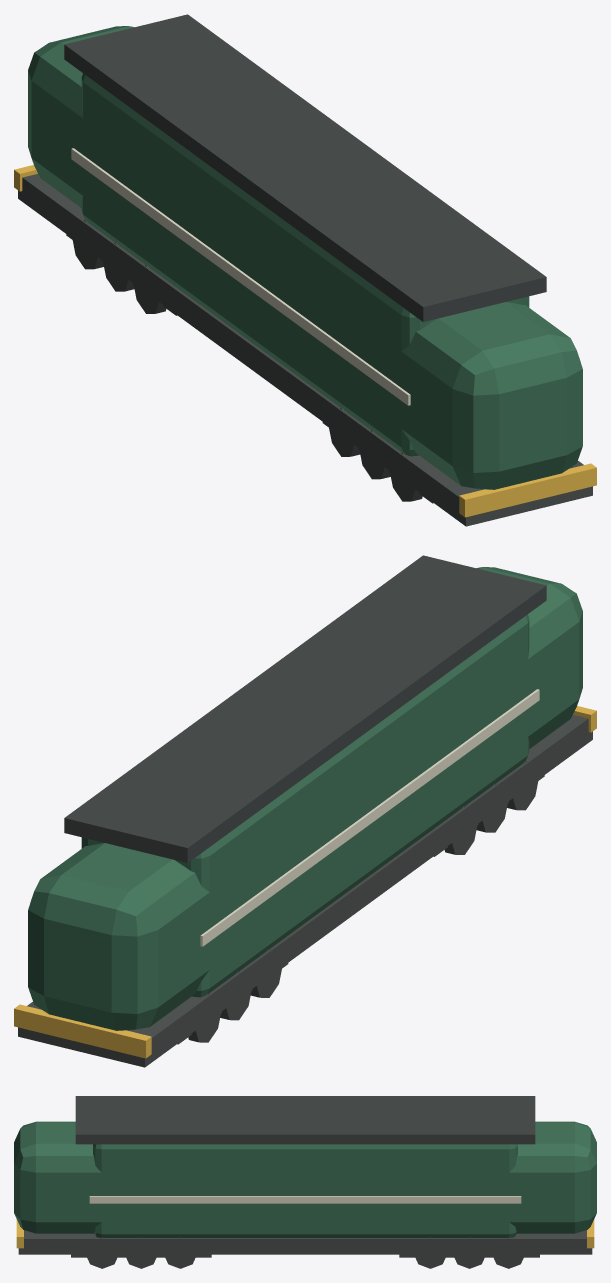
Rendered from nord-di-3b_lod1.glb.
3 views of the same model, one above another, from view 1: azimuth 30°, elevation 25°; view 2: azimuth 150°, elevation 25°; view 3: azimuth 270°, elevation 25° (orthographic). The views are drawn at different scales.
Visible parts, largest first — view 1: RF_Di3_Roof, RF_Di3_Body, RF_Di3_RoundedNose.001, RF_Di3_Chassis, RF_Di3_RoundedNose, RF_Di3_Stripe.001, RF_Di3_BufferBeam.001; view 2: RF_Di3_Roof, RF_Di3_Body, RF_Di3_RoundedNose, RF_Di3_Chassis, RF_Di3_RoundedNose.001, RF_Di3_Stripe.001, RF_Di3_BufferBeam; view 3: RF_Di3_Body, RF_Di3_Roof, RF_Di3_Chassis, RF_Di3_RoundedNose, RF_Di3_RoundedNose.001, RF_Di3_Stripe, RF_Di3_Wheel.006, RF_Di3_Wheel.008, RF_Di3_Wheel.004, RF_Di3_Wheel.010, RF_Di3_Wheel.002, RF_Di3_Wheel.
Boxes of the visible parts, <box> form: RF_Di3_Roof: <box>64,14,546,321</box>; RF_Di3_Body: <box>81,73,529,456</box>; RF_Di3_RoundedNose.001: <box>400,302,582,489</box>; RF_Di3_Chassis: <box>18,174,592,526</box>; RF_Di3_RoundedNose: <box>28,26,134,207</box>; RF_Di3_Stripe.001: <box>71,148,410,405</box>; RF_Di3_BufferBeam.001: <box>459,463,596,517</box>; RF_Di3_Roof: <box>64,555,546,862</box>; RF_Di3_Body: <box>81,614,529,997</box>; RF_Di3_RoundedNose: <box>28,843,210,1030</box>; RF_Di3_Chassis: <box>18,715,592,1067</box>; RF_Di3_RoundedNose.001: <box>476,567,582,748</box>; RF_Di3_Stripe.001: <box>200,689,539,946</box>; RF_Di3_BufferBeam: <box>14,1004,151,1058</box>; RF_Di3_Body: <box>93,1144,517,1237</box>; RF_Di3_Roof: <box>75,1096,535,1144</box>; RF_Di3_Chassis: <box>18,1230,592,1254</box>; RF_Di3_RoundedNose: <box>508,1121,596,1233</box>; RF_Di3_RoundedNose.001: <box>14,1121,102,1233</box>; RF_Di3_Stripe: <box>89,1196,521,1203</box>; RF_Di3_Wheel.006: <box>164,1237,196,1268</box>; RF_Di3_Wheel.008: <box>414,1237,446,1268</box>; RF_Di3_Wheel.004: <box>125,1237,157,1268</box>; RF_Di3_Wheel.010: <box>453,1237,485,1268</box>; RF_Di3_Wheel.002: <box>86,1237,118,1268</box>; RF_Di3_Wheel: <box>492,1237,524,1268</box>.
Bounding box in the file's own units: 3.12 × 4.74 × 18.65.
